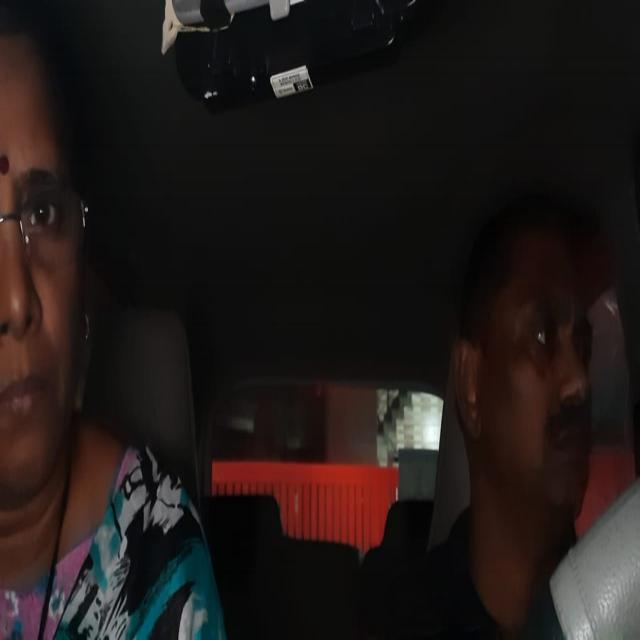LeftRight: (447, 170, 601, 530)
person: (2, 21, 98, 522)
